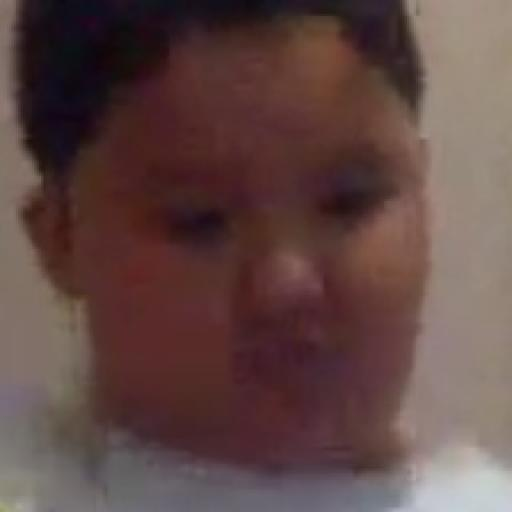Autism: (30, 0, 439, 506)
